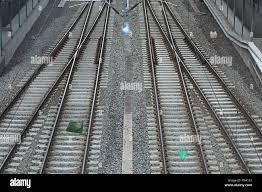Dust_screen: (59, 119, 85, 136), (178, 147, 188, 163)
Plastic: (121, 21, 132, 36)
